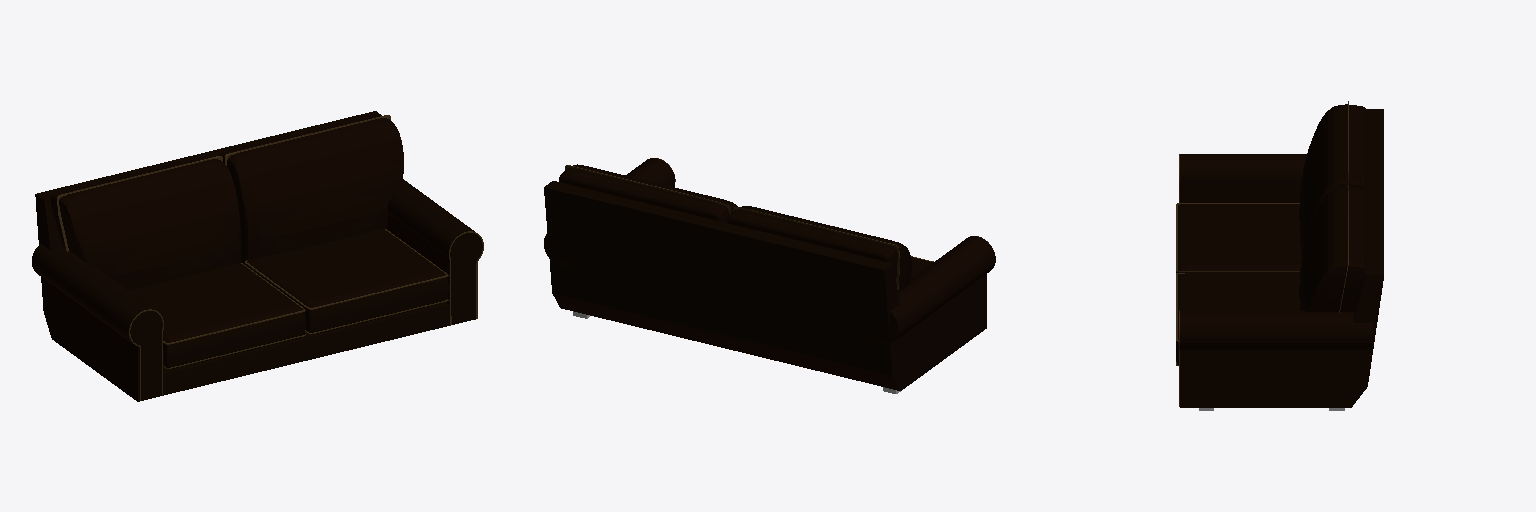
Rendered from couch.obj.
3 renders of one model, left to right at view 1: azimuth 30°, elevation 25°; view 2: azimuth 150°, elevation 25°; view 3: azimuth 270°, elevation 25°, orthographic.
Visible parts, largest first — view 1: couchbase_Circle, cushion.003_Cube.012, cushion.001_Cube.006, cushion.002_Cube.008, cushion_Cube.001; view 2: couchbase_Circle, cushion.001_Cube.006, cushion.003_Cube.012; view 3: couchbase_Circle, cushion_Cube.001, cushion.003_Cube.012, cushion.001_Cube.006, cushion.002_Cube.008.
Part boxes in pixels (x1,y1,x2,y2): couchbase_Circle: (32, 111, 482, 401); cushion.003_Cube.012: (219, 114, 403, 264); cushion.001_Cube.006: (50, 155, 240, 290); cushion.002_Cube.008: (246, 229, 448, 333); cushion_Cube.001: (130, 264, 305, 368); couchbase_Circle: (544, 158, 995, 390); cushion.001_Cube.006: (727, 206, 911, 290); cushion.003_Cube.012: (559, 164, 737, 222); couchbase_Circle: (1180, 109, 1383, 407); cushion_Cube.001: (1176, 204, 1301, 274); cushion.003_Cube.012: (1299, 187, 1365, 311); cushion.001_Cube.006: (1299, 104, 1365, 253); cushion.002_Cube.008: (1176, 273, 1299, 364).
Size of the model in its own units: 1.98 by 0.8081 by 1.01.